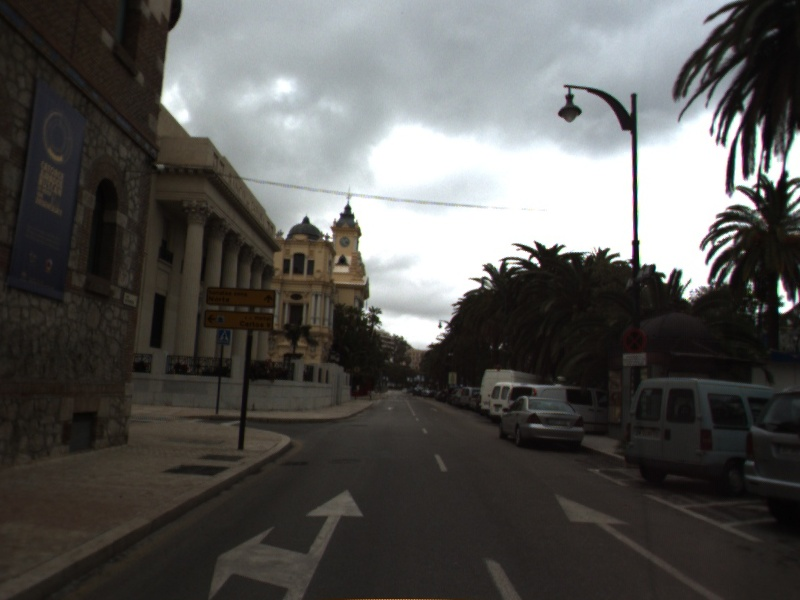STRAIGHT: (552, 491, 726, 600)
STRAIGHT_LEFT: (207, 487, 365, 600)
